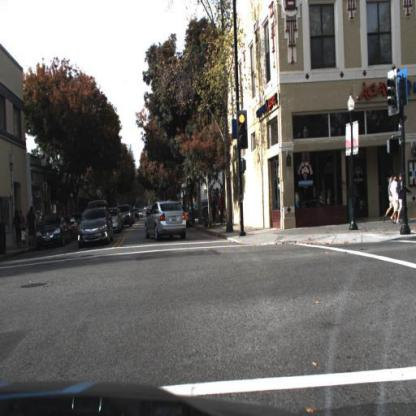car: (144, 198, 191, 245), (78, 208, 113, 247), (38, 215, 70, 249), (175, 206, 196, 229), (112, 207, 125, 235), (124, 203, 137, 231)
pedestrian: (406, 168, 416, 234), (26, 204, 37, 252), (386, 171, 395, 222), (399, 174, 407, 225), (28, 205, 36, 251), (13, 208, 21, 250), (212, 194, 220, 230), (219, 190, 225, 228), (220, 191, 226, 225), (19, 227, 27, 250)
trafficLight: (237, 111, 249, 152)
